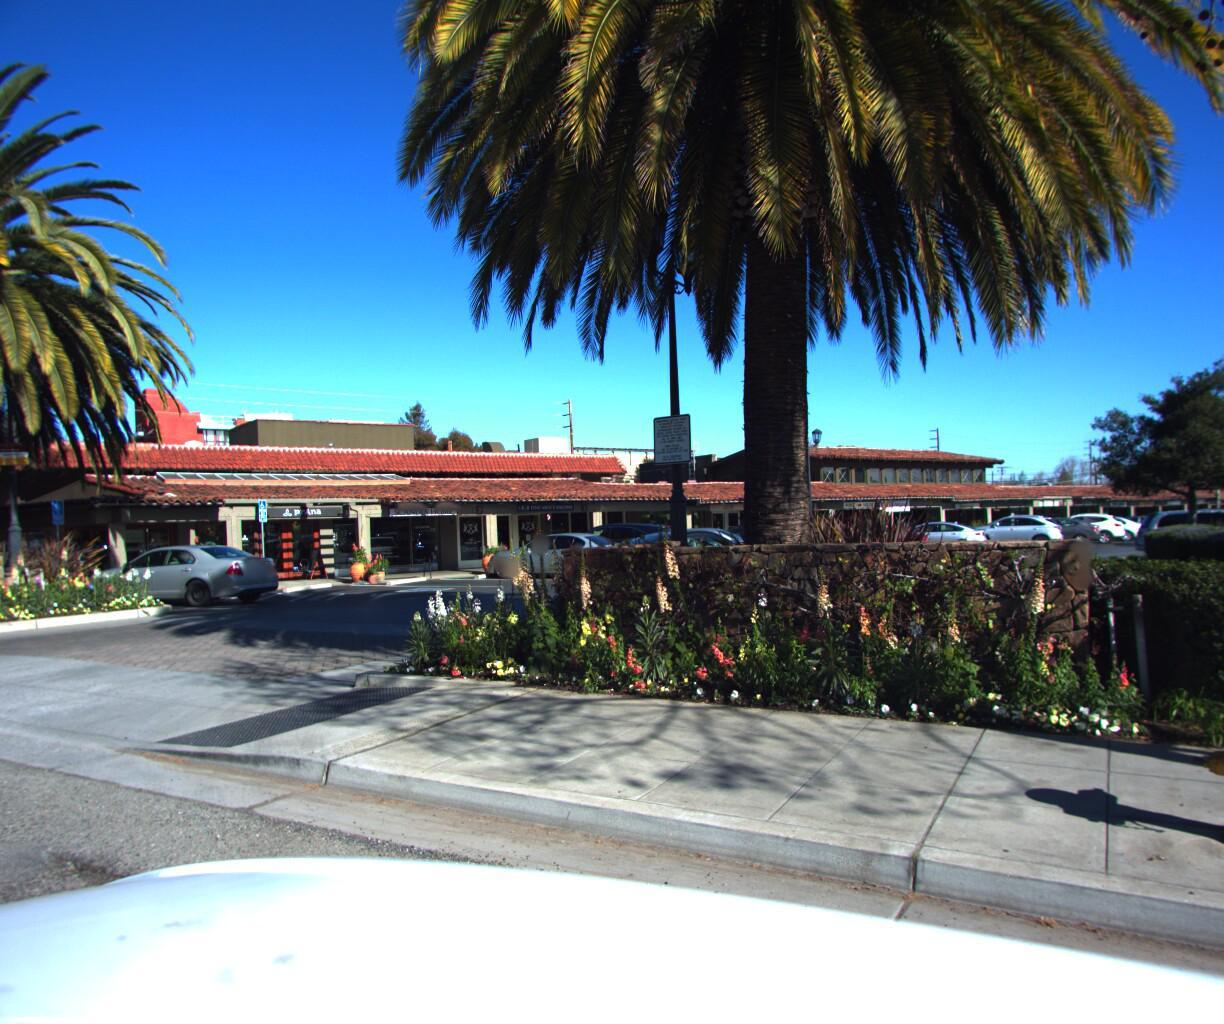car: (583, 516, 780, 595), (78, 533, 293, 603)
